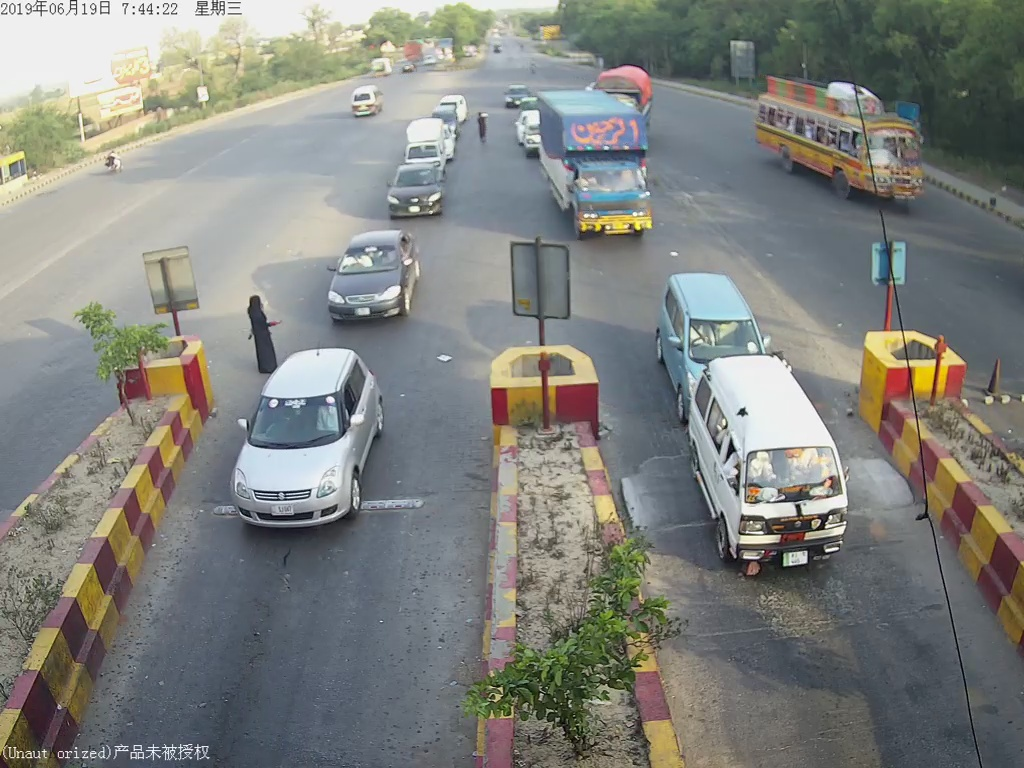Cat-1: (700, 361, 848, 564), (238, 351, 397, 531), (326, 229, 419, 324), (384, 168, 448, 220)
Cat-2: (541, 98, 655, 237)
